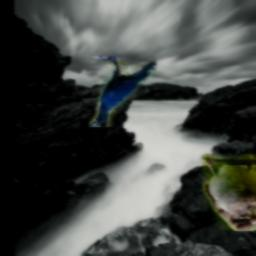Crow: (90, 57, 157, 128)
Sparrow: (203, 155, 256, 232)
